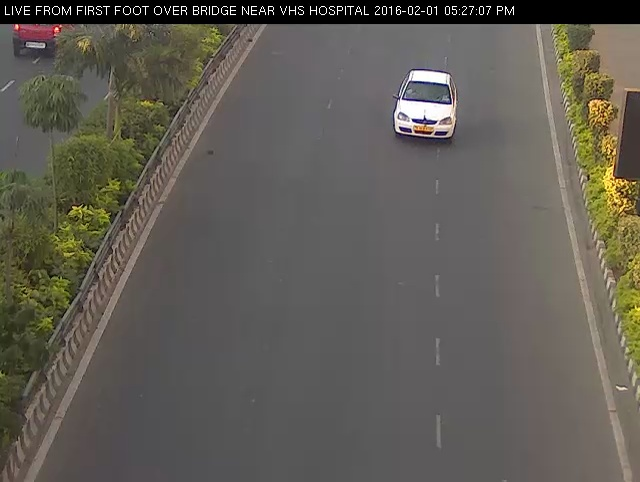Car: (385, 60, 466, 149)
